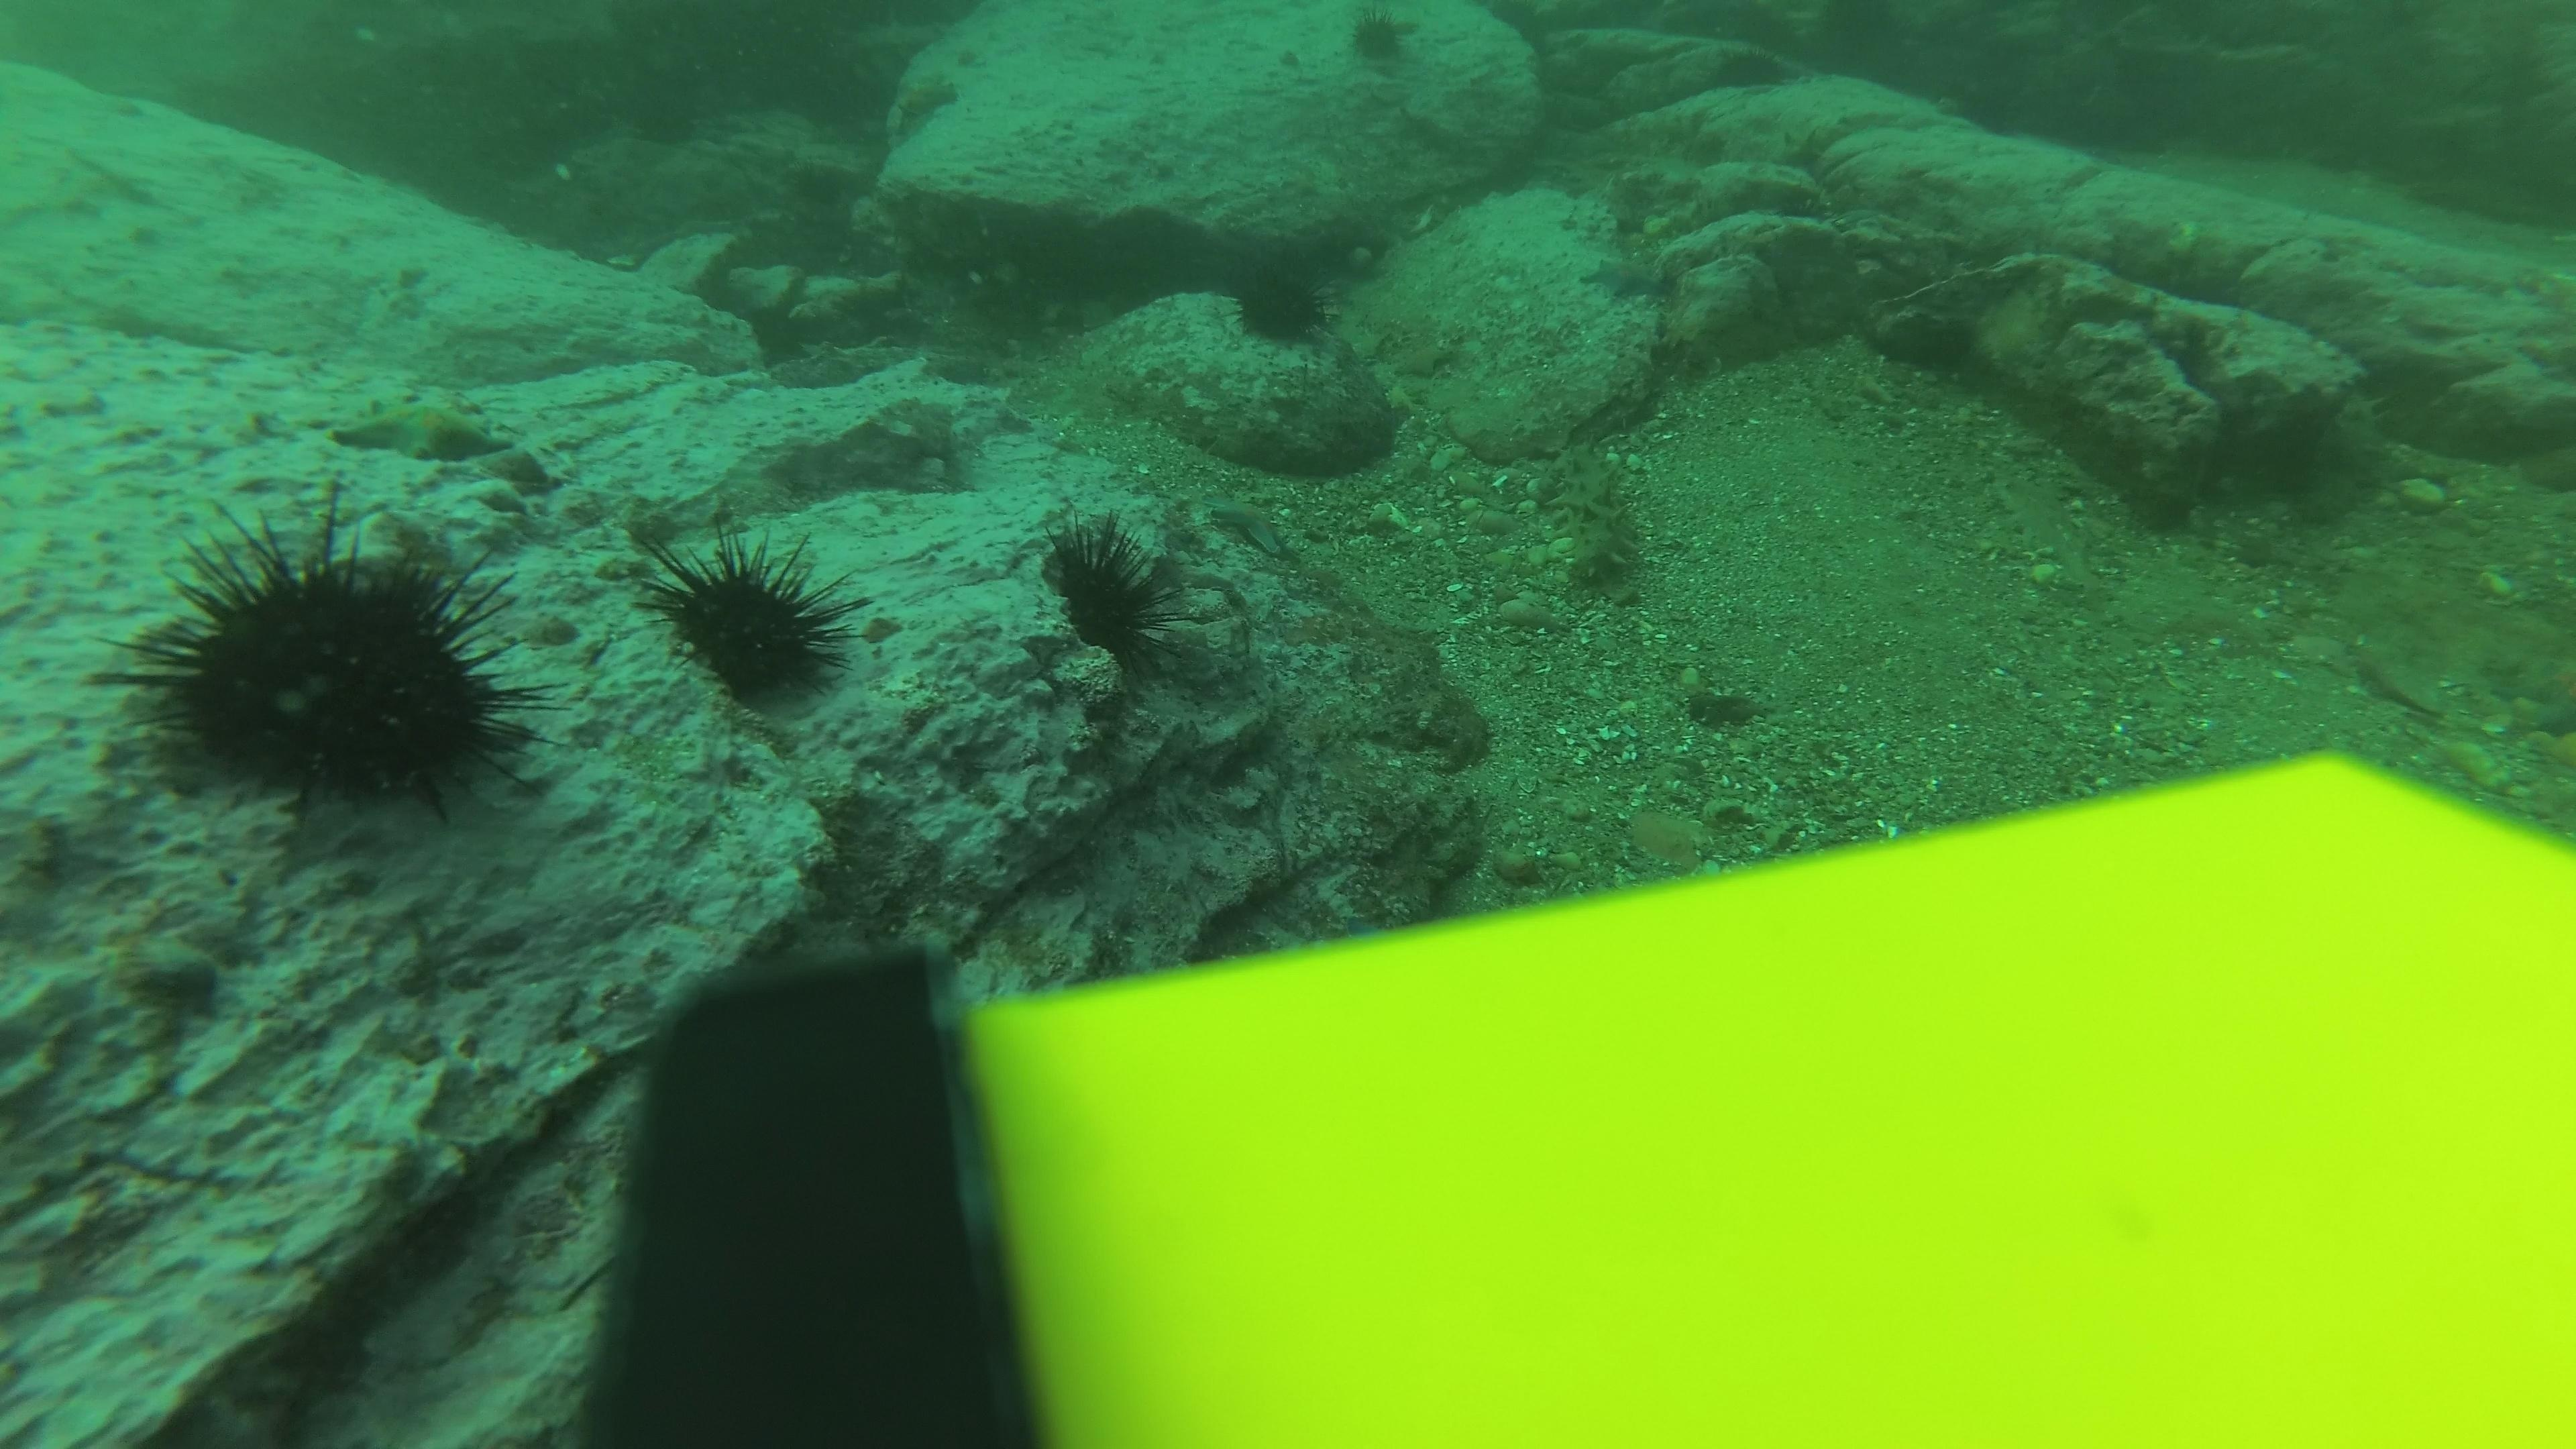echinus: (119, 506, 545, 828), (640, 527, 856, 713), (1031, 513, 1185, 674), (1224, 255, 1338, 350), (1341, 7, 1421, 73)
holothurian: (1541, 442, 1652, 610)
starfish: (326, 395, 522, 469), (1201, 494, 1302, 561), (1615, 801, 1716, 869), (1580, 248, 1674, 306), (885, 69, 966, 131), (915, 341, 1010, 391)
